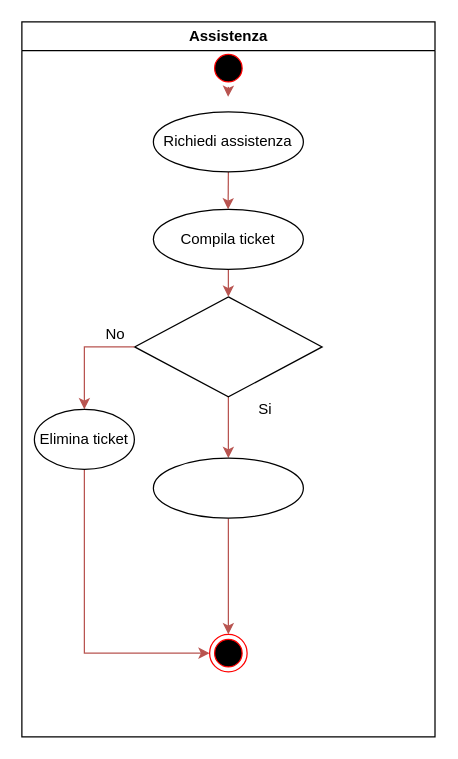
This 458x759 diagram has some shape labels left out. The shapes that lost their labels are listed below. From the top down, each one's centre as x and y in pixels, then its label:
point 227,346: Prodotto in garanzia
point 227,487: Salva ticket
